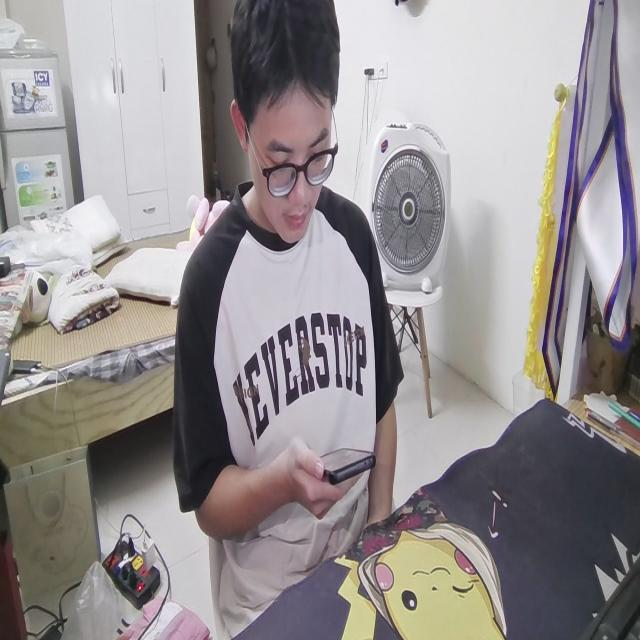phone: (316, 435, 376, 487)
student: (170, 0, 404, 629)
